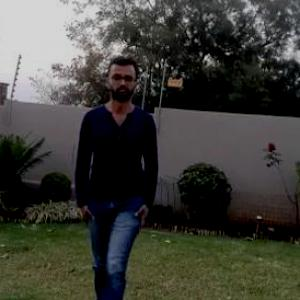follow: (73, 55, 160, 299)
